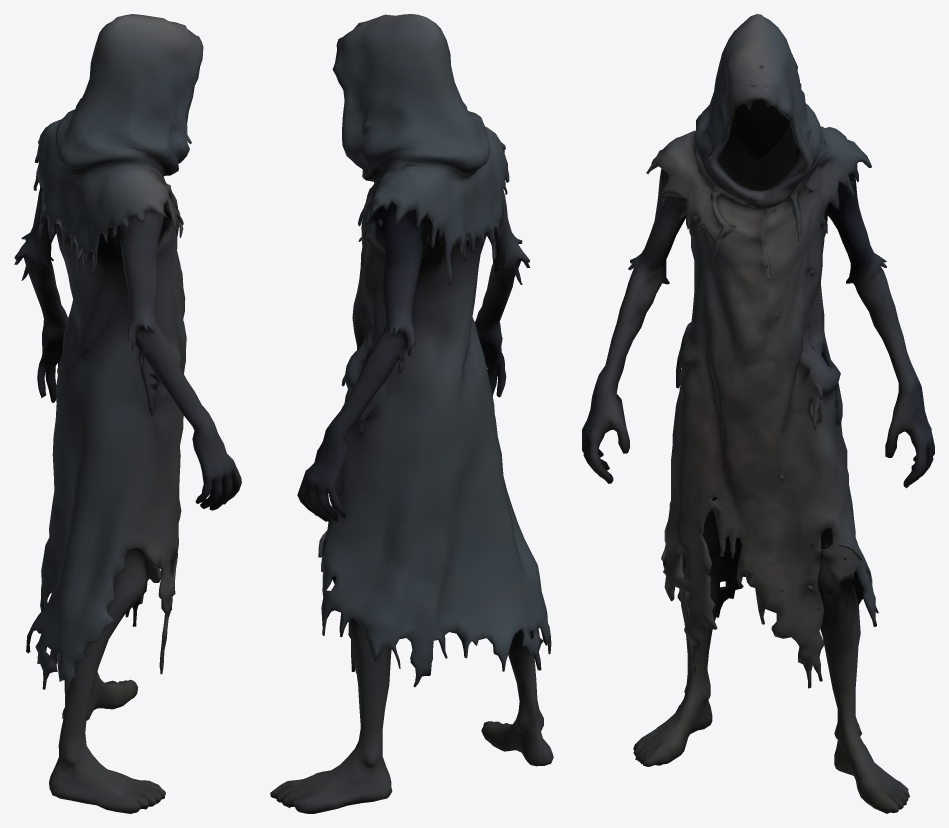
3 renders of one model, left to right at view 1: azimuth 30°, elevation 25°; view 2: azimuth 150°, elevation 25°; view 3: azimuth 270°, elevation 25°, orthographic. The views are drawn at different scales.
Visible parts, largest first — view 1: tripo_node_1a3f88e8-3983-410e-aeda-9a503fc91699; view 2: tripo_node_1a3f88e8-3983-410e-aeda-9a503fc91699; view 3: tripo_node_1a3f88e8-3983-410e-aeda-9a503fc91699.
Part boxes in pixels (box(x1,y1,x2,y2)): tripo_node_1a3f88e8-3983-410e-aeda-9a503fc91699: box(14, 14, 241, 813); tripo_node_1a3f88e8-3983-410e-aeda-9a503fc91699: box(270, 14, 553, 813); tripo_node_1a3f88e8-3983-410e-aeda-9a503fc91699: box(582, 14, 934, 813).
Size of the model in its own units: 0.2544 by 1 by 0.4188.
1 material, 1 textured.
